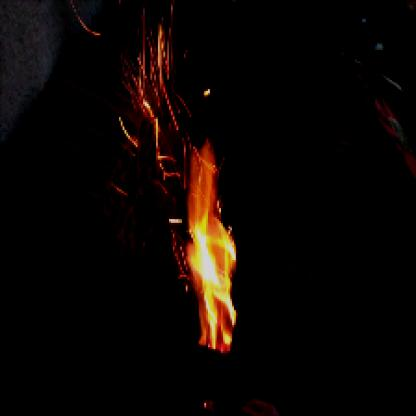Fire: (167, 113, 238, 355)
